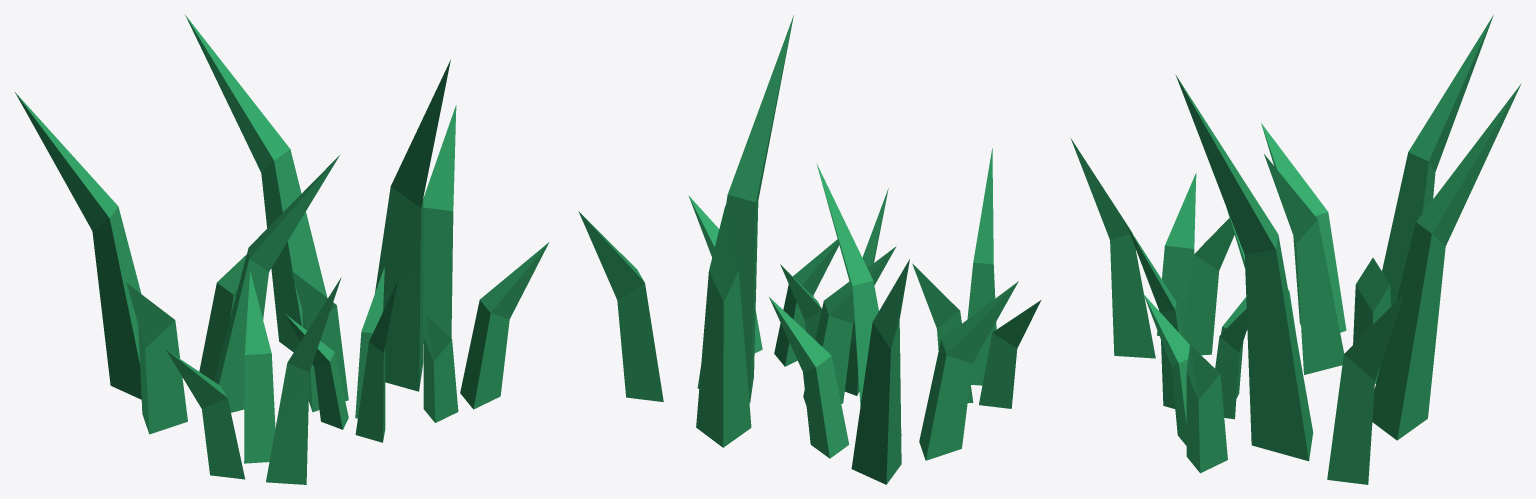
File: bush.glb
3 renders of one model, left to right at view 1: azimuth 30°, elevation 25°; view 2: azimuth 150°, elevation 25°; view 3: azimuth 270°, elevation 25°, orthographic. The views are drawn at different scales.
Visible parts, largest first — view 1: Circle.015; view 2: Circle.015; view 3: Circle.015.
Boxes of the visible parts, box(x1,y1,x2,y2) form: Circle.015: box(15, 15, 549, 484); Circle.015: box(578, 15, 1041, 484); Circle.015: box(1070, 15, 1521, 484).
Bounding box in the file's own units: 13.11 × 11.31 × 12.55.
